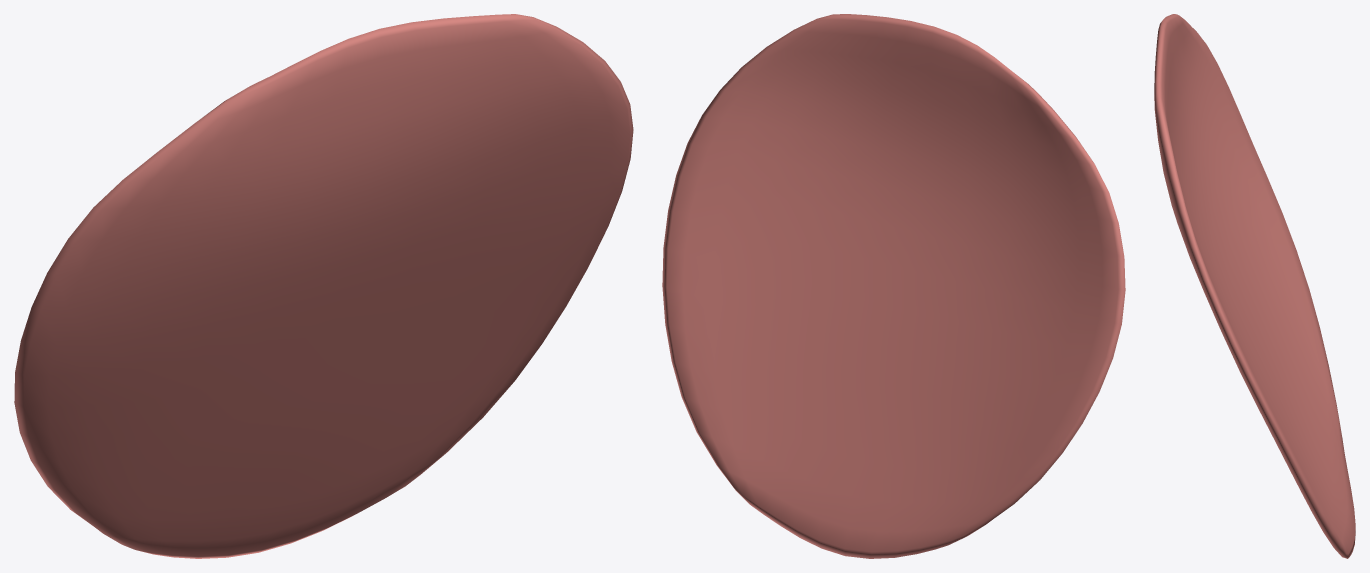
The picture shows the model from 3 angles, left to right: view 1: azimuth 30°, elevation 25°; view 2: azimuth 150°, elevation 25°; view 3: azimuth 270°, elevation 25°; orthographic projection. The views are drawn at different scales.
Parts seen in each view (by area): view 1: ZA_733485197af997a0; view 2: ZA_733485197af997a0; view 3: ZA_733485197af997a0.
Boxes of the visible parts, left/top/right/bottom form: ZA_733485197af997a0: left=14, top=14, right=633, bottom=558; ZA_733485197af997a0: left=662, top=14, right=1125, bottom=558; ZA_733485197af997a0: left=1154, top=14, right=1355, bottom=558.
Bounding box in the file's own units: 0.0246 × 0.0239 × 0.00876.
